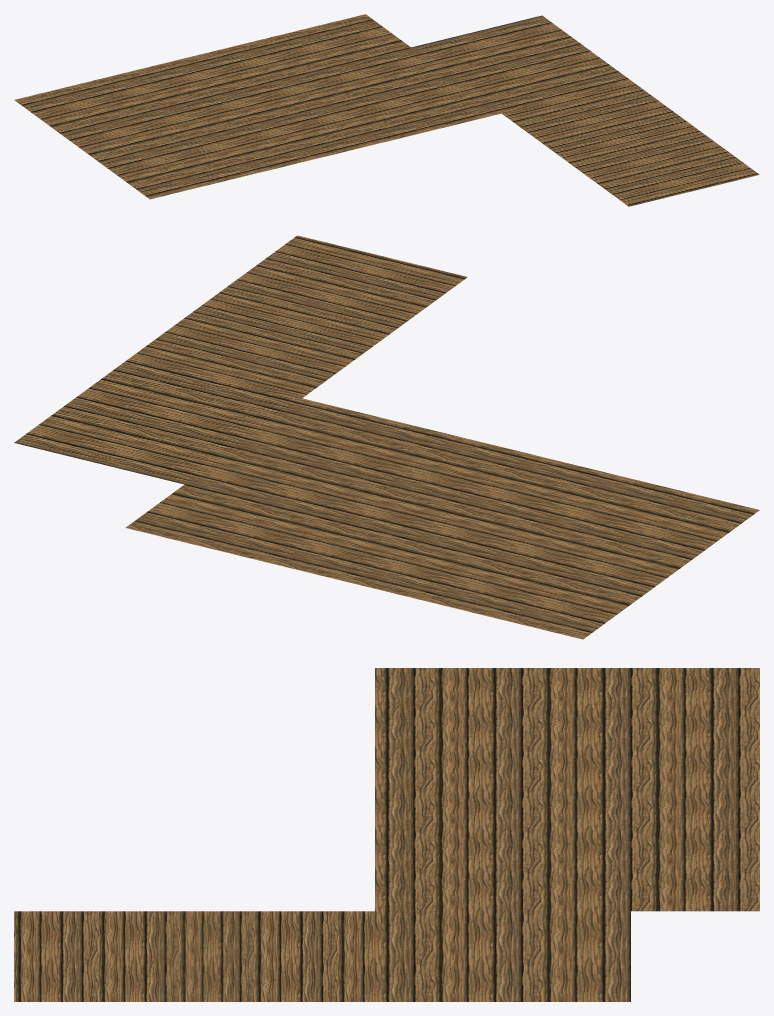
Rendered from LAKETOWN_EXTERIOR_PS_LT_FLOOR_218.fbx.
The picture shows the model from 3 angles, top to bottom: view 1: azimuth 30°, elevation 25°; view 2: azimuth 150°, elevation 25°; view 3: azimuth 270°, elevation 25°; orthographic projection. The views are drawn at different scales.
Parts seen in each view (by area): view 1: LAKETOWN_EXTERIOR_PS_LT_FLOOR_218; view 2: LAKETOWN_EXTERIOR_PS_LT_FLOOR_218; view 3: LAKETOWN_EXTERIOR_PS_LT_FLOOR_218.
Boxes of the visible parts, x1=… form: LAKETOWN_EXTERIOR_PS_LT_FLOOR_218: x1=14, y1=14, x2=759, y2=206; LAKETOWN_EXTERIOR_PS_LT_FLOOR_218: x1=14, y1=235, x2=759, y2=639; LAKETOWN_EXTERIOR_PS_LT_FLOOR_218: x1=14, y1=668, x2=759, y2=1001.
Bounding box in the file's own units: 183956 × 0.0359 × 173761.
1 material, 1 textured.
